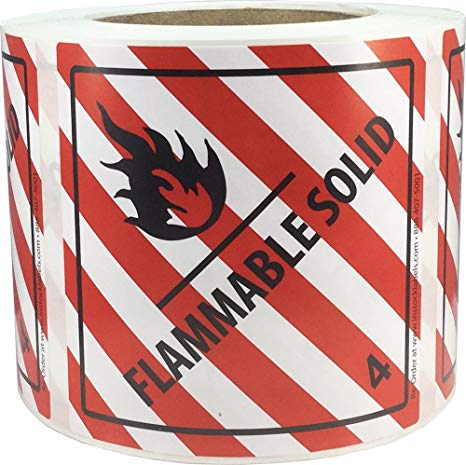FlammableSolid: (71, 58, 420, 429)
